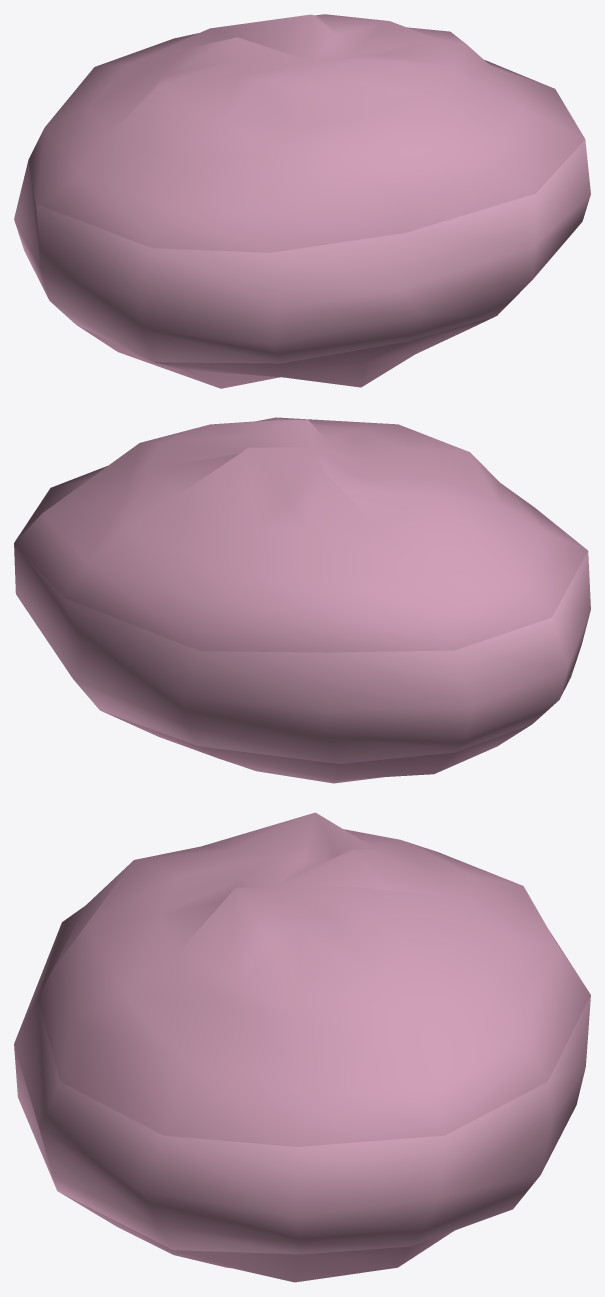
File: bush-85_col.fbx
3 renders of one model, top to bottom at view 1: azimuth 30°, elevation 25°; view 2: azimuth 150°, elevation 25°; view 3: azimuth 270°, elevation 25°, orthographic. The views are drawn at different scales.
Visible parts, largest first — view 1: bush-85.col; view 2: bush-85.col; view 3: bush-85.col.
Part boxes in pixels (<box>): bush-85.col: <box>14,14,590,388</box>; bush-85.col: <box>14,417,590,783</box>; bush-85.col: <box>14,812,590,1282</box>.
Size of the model in its own units: 0.2941 by 0.1626 by 0.2357.
1 material, 1 textured.
